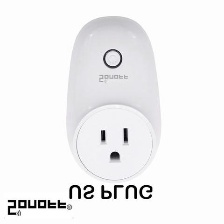three_eye_plug: (60, 13, 164, 191)
